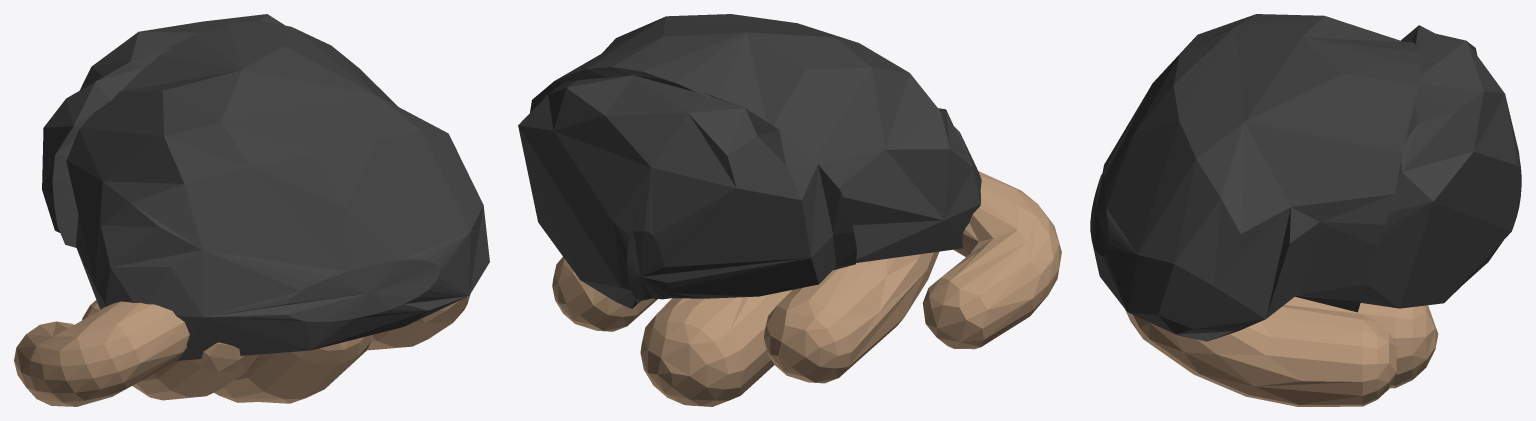
The model's file is foot_primate_optimized60.glb.
The picture shows the model from 3 angles, left to right: view 1: azimuth 30°, elevation 25°; view 2: azimuth 150°, elevation 25°; view 3: azimuth 270°, elevation 25°; orthographic projection. The views are drawn at different scales.
Visible parts, largest first — view 1: foot_primate_fur, foot_primate_claws; view 2: foot_primate_fur, foot_primate_claws; view 3: foot_primate_fur, foot_primate_claws.
Part boxes in pixels (x1,y1,x2,y2): foot_primate_fur: (42, 14, 489, 360); foot_primate_claws: (14, 294, 470, 406); foot_primate_fur: (518, 14, 981, 308); foot_primate_claws: (552, 171, 1061, 406); foot_primate_fur: (1090, 14, 1521, 341); foot_primate_claws: (1125, 297, 1438, 406).
Bounding box in the file's own units: 1.76 × 1.26 × 1.43.
